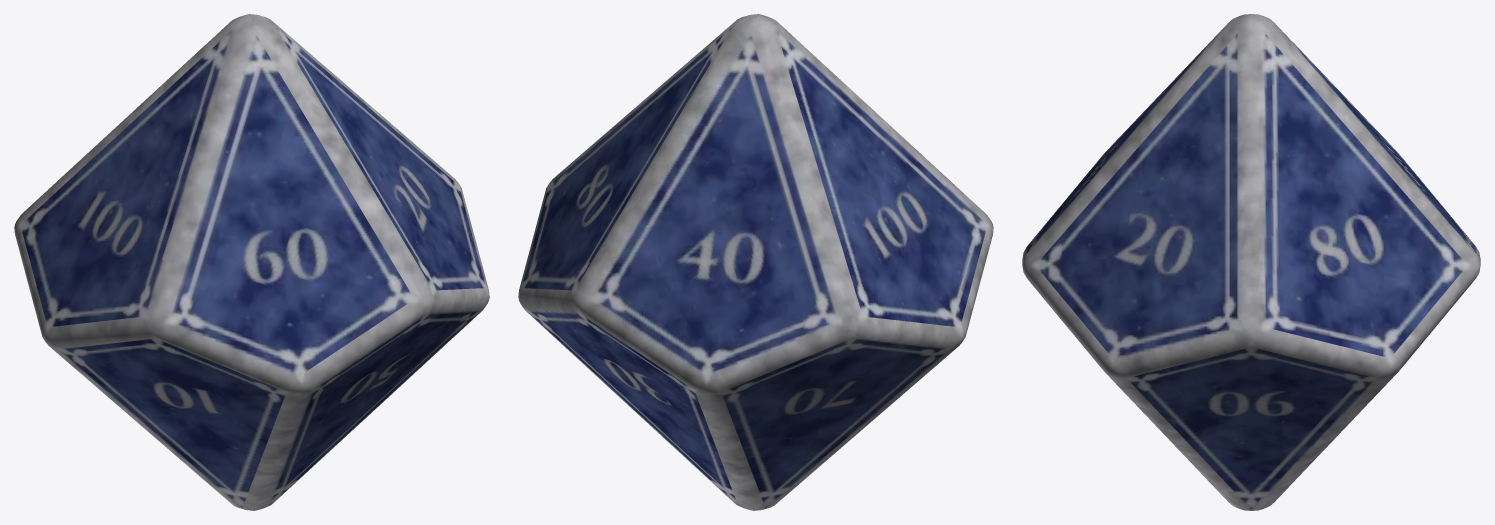
File: breton-d100.glb
The picture shows the model from 3 angles, left to right: view 1: azimuth 30°, elevation 25°; view 2: azimuth 150°, elevation 25°; view 3: azimuth 270°, elevation 25°; orthographic projection.
Visible parts, largest first — view 1: breton_d100; view 2: breton_d100; view 3: breton_d100.
Boxes of the visible parts, x1,y1,x2,y2 form: breton_d100: [14, 14, 489, 510]; breton_d100: [518, 14, 993, 510]; breton_d100: [1022, 14, 1480, 510].
Size of the model in its own units: 1.66 by 1.91 by 1.59.
1 material, 1 textured.
